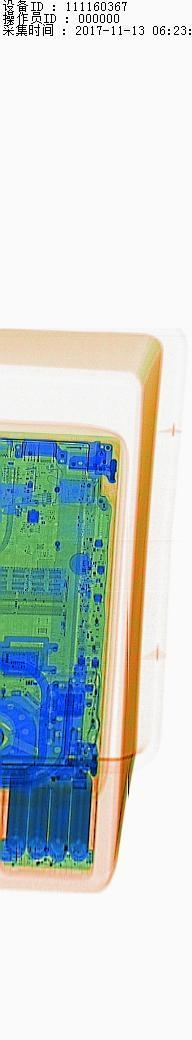core: (17, 770, 98, 867)
